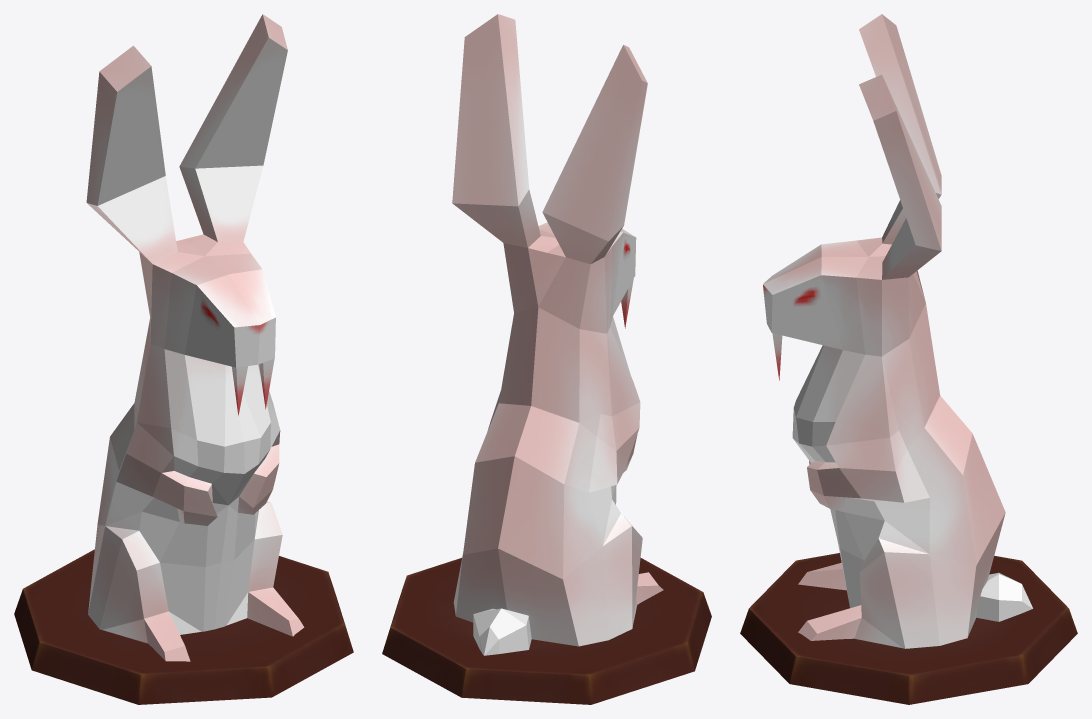
Rendered from Asset_Enemy_Rabby.fbx.
The picture shows the model from 3 angles, left to right: view 1: azimuth 30°, elevation 25°; view 2: azimuth 150°, elevation 25°; view 3: azimuth 270°, elevation 25°; orthographic projection. The views are drawn at different scales.
Parts seen in each view (by area): view 1: rabby_body, rabby_stand; view 2: rabby_body, rabby_stand; view 3: rabby_body, rabby_stand.
Part boxes in pixels (x1=…): rabby_body: x1=86, y1=14, x2=304, y2=661; rabby_stand: x1=14, y1=549, x2=353, y2=704; rabby_body: x1=452, y1=14, x2=663, y2=655; rabby_stand: x1=382, y1=558, x2=711, y2=704; rabby_body: x1=763, y1=14, x2=1032, y2=648; rabby_stand: x1=740, y1=553, x2=1077, y2=704.
Bounding box in the file's own units: 31.55 × 60.75 × 31.55.
